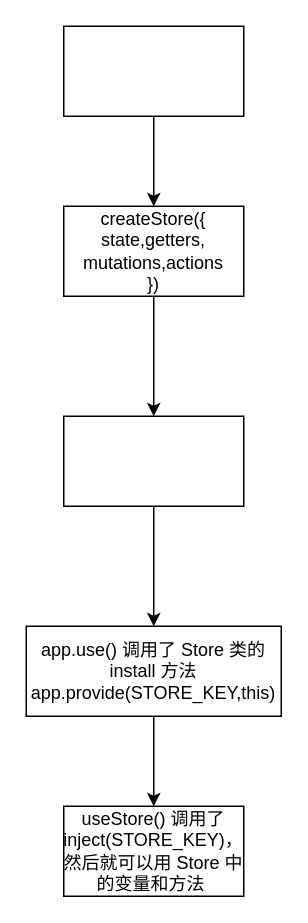
This 308x923 diagram has some shape labels left out. Each missing label, with the box of its shape:
app.use(store): (62, 25, 244, 116)
new Store()，包含了 _state，_mutations，_actions，getters: (62, 415, 244, 506)
